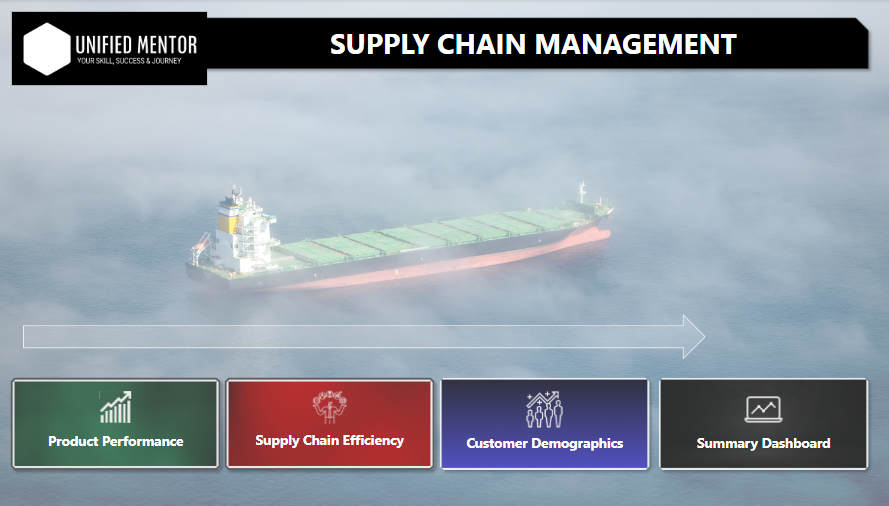

Layout of this report page (visuals, bound fields, positions):
{"tool":"powerbi","page":{"name":"Supply Chain Management","canvas":[1400,800],"ordinal":0},"visuals":[{"type":"shape","box":[313.3,20,1063.3,98.3],"z":0},{"type":"image","box":[18.3,20,306.7,115],"z":1000},{"type":"actionButton","box":[8.3,586.7,348.3,163.3],"z":2000},{"type":"actionButton","box":[683.3,586.7,348.3,163.3],"z":3000},{"type":"actionButton","box":[345,586.7,348.3,163.3],"z":4000},{"type":"actionButton","box":[1028.3,586.7,348.3,163.3],"z":5000},{"type":"shape","box":[36.7,496.7,1075,71.7],"z":6000}]}

Visuals, with their boxes in screenshot pixels (x1, y1, x2, y2), scaled from the page's 1400x800 canvas onto the 889x506 screenshot:
shape: 199, 13, 874, 75
image: 12, 13, 206, 85
actionButton: 5, 371, 226, 474
actionButton: 434, 371, 655, 474
actionButton: 219, 371, 440, 474
actionButton: 653, 371, 874, 474
shape: 23, 314, 706, 360
